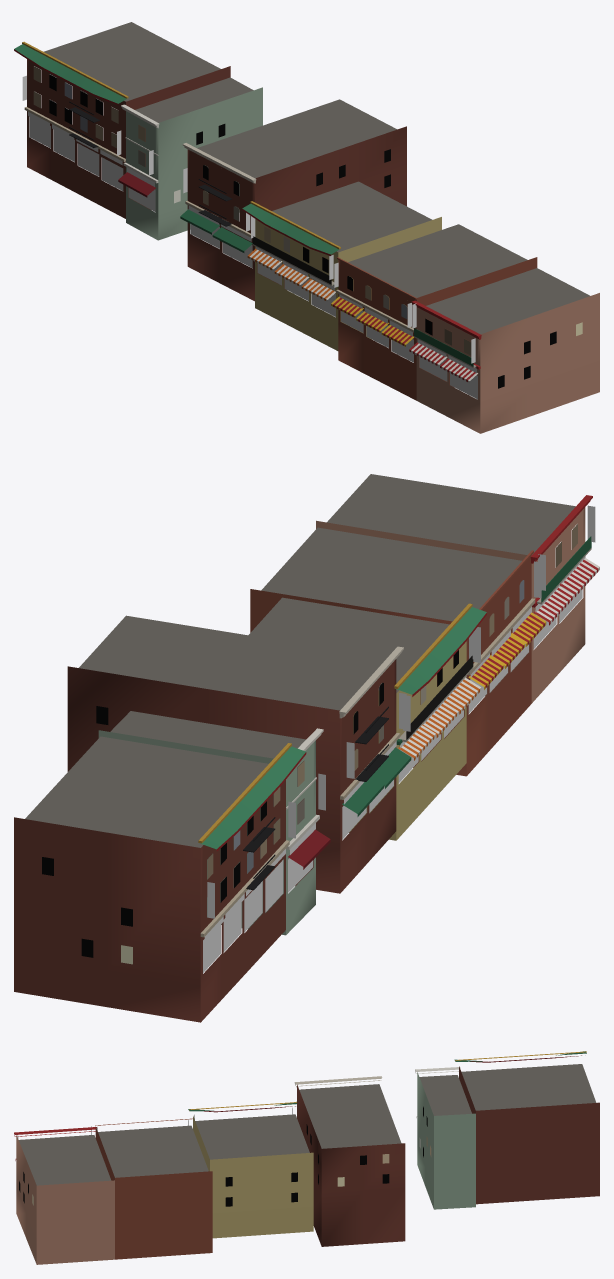
The picture shows the model from 3 angles, top to bottom: view 1: azimuth 30°, elevation 25°; view 2: azimuth 150°, elevation 25°; view 3: azimuth 270°, elevation 25°; orthographic projection. The views are drawn at different scales.
Parts seen in each view (by area): view 1: L1_roof, L1_stucco, L1_brickred, L1_shopint, L1_d_fabric, L1_win, L1_sign, L1_d_brickred, L1_d_paint, L1_stone, L1_rooftile, L1_d_stucco (+1 smaller); view 2: L1_roof, L1_brickred, L1_stucco, L1_d_fabric, L1_shopint, L1_rooftile, L1_sign, L1_win, L1_stone, L1_d_paint, L1_d_stucco, L1_d_metal; view 3: L1_roof, L1_d_brickred, L1_stucco, L1_d_stucco, L1_brickred, L1_win, L1_stone, L1_d_paint.
Part boxes in pixels (x1,y1,x2,y2): L1_roof: (44, 22, 589, 334); L1_stucco: (126, 87, 599, 433); L1_brickred: (27, 59, 416, 400); L1_shopint: (29, 117, 477, 399); L1_d_fabric: (118, 172, 477, 382); L1_win: (33, 66, 582, 388); L1_sign: (22, 75, 476, 373); L1_d_brickred: (126, 66, 537, 387); L1_d_paint: (14, 41, 476, 367); L1_stone: (24, 104, 481, 369); L1_rooftile: (14, 44, 339, 254); L1_d_stucco: (338, 217, 441, 339); L1_roof: (25, 474, 575, 847); L1_brickred: (14, 555, 531, 1022); L1_stucco: (286, 507, 585, 934); L1_d_fabric: (288, 558, 599, 869); L1_shopint: (203, 586, 582, 972); L1_rooftile: (199, 607, 486, 849); L1_sign: (204, 505, 595, 941); L1_win: (42, 524, 577, 964); L1_stone: (200, 495, 592, 937); L1_d_paint: (198, 536, 591, 851); L1_d_stucco: (98, 520, 529, 935); L1_d_metal: (243, 706, 388, 890); L1_roof: (18, 1064, 596, 1185); L1_d_brickred: (95, 1066, 599, 1259); L1_stucco: (16, 1072, 433, 1263); L1_d_stucco: (36, 1113, 475, 1264); L1_brickred: (297, 1084, 405, 1246); L1_win: (19, 1106, 431, 1206); L1_stone: (14, 1067, 460, 1160); L1_d_paint: (189, 1051, 586, 1112).
Size of the model in its own units: 32.5 by 19.8 by 85.57.
